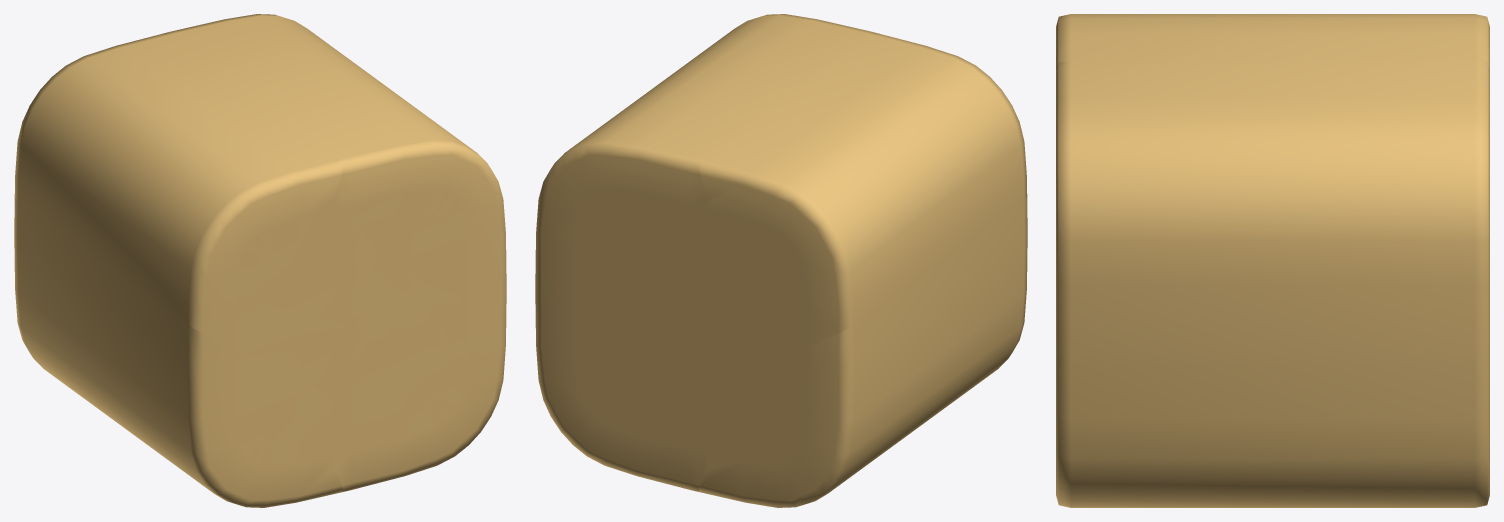
Rendered from Sm_Ice.fbx.
3 views of the same model, side by side, from view 1: azimuth 30°, elevation 25°; view 2: azimuth 150°, elevation 25°; view 3: azimuth 270°, elevation 25° (orthographic). The views are drawn at different scales.
Visible parts, largest first — view 1: Sm_Cube.001, Sm_Cube, Sm_Cube.002, Sm_Cube.003; view 2: Sm_Cube.001, Sm_Cube, Sm_Cube.002, Sm_Cube.003; view 3: Sm_Cube.002, Sm_Cube.003, Sm_Cube.001.
Part boxes in pixels (x1,y1,x2,y2): Sm_Cube.001: [14, 34, 373, 346]; Sm_Cube: [14, 198, 373, 507]; Sm_Cube.002: [162, 14, 506, 341]; Sm_Cube.003: [334, 294, 506, 491]; Sm_Cube.001: [668, 34, 1027, 346]; Sm_Cube: [668, 198, 1027, 507]; Sm_Cube.002: [535, 14, 879, 341]; Sm_Cube.003: [535, 294, 707, 491]; Sm_Cube.002: [1056, 60, 1489, 366]; Sm_Cube.003: [1056, 362, 1489, 507]; Sm_Cube.001: [1056, 14, 1489, 69].
Size of the model in its own units: 109 by 109 by 109.
